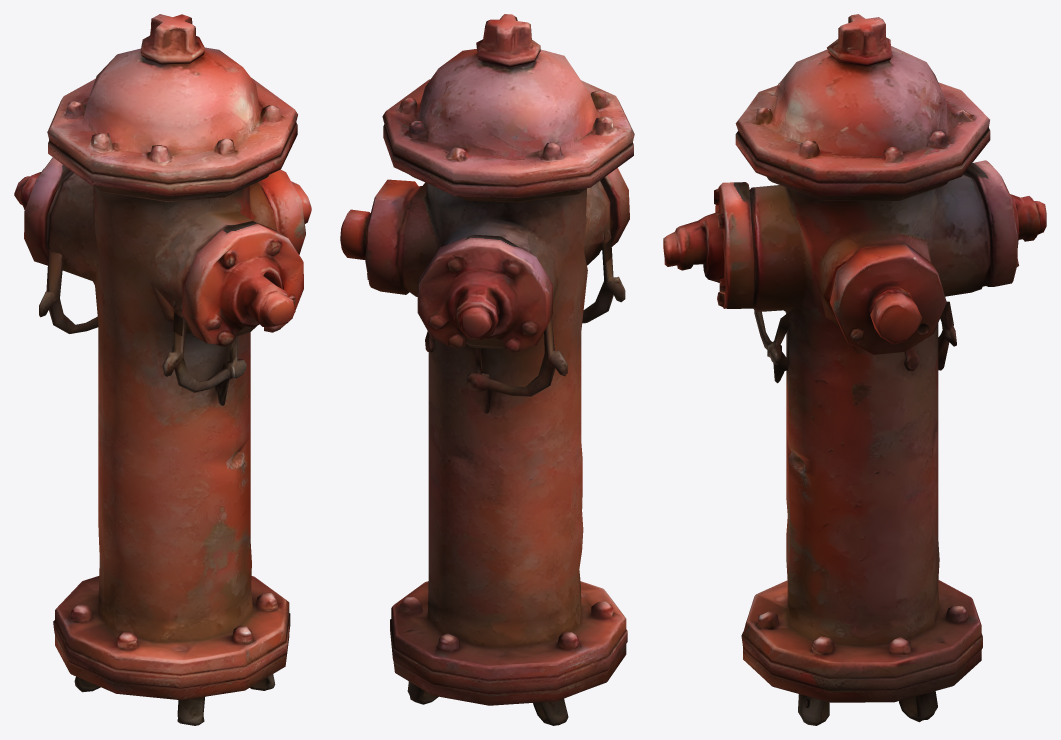
Rendered from fire_hydrant_01.fbx.
3 renders of one model, left to right at view 1: azimuth 30°, elevation 25°; view 2: azimuth 150°, elevation 25°; view 3: azimuth 270°, elevation 25°, orthographic.
Visible parts, largest first — view 1: tripo_node_dc1246f2; view 2: tripo_node_dc1246f2; view 3: tripo_node_dc1246f2.
Part boxes in pixels (<box>): tripo_node_dc1246f2: <box>14,14,311,725</box>; tripo_node_dc1246f2: <box>340,14,634,725</box>; tripo_node_dc1246f2: <box>663,14,1046,725</box>.
Size of the model in its own units: 0.3933 by 0.9961 by 0.5186.
1 material, 1 textured.
